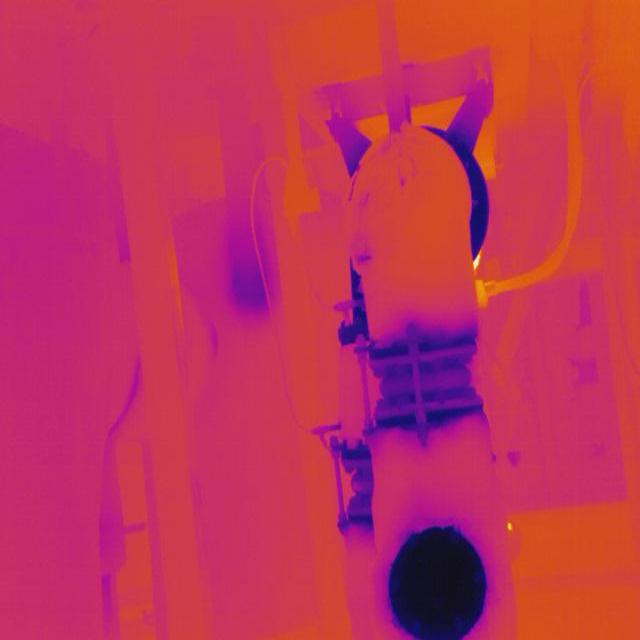leakage: (350, 245, 378, 272)
